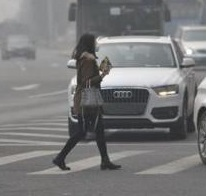person: (50, 31, 127, 174)
